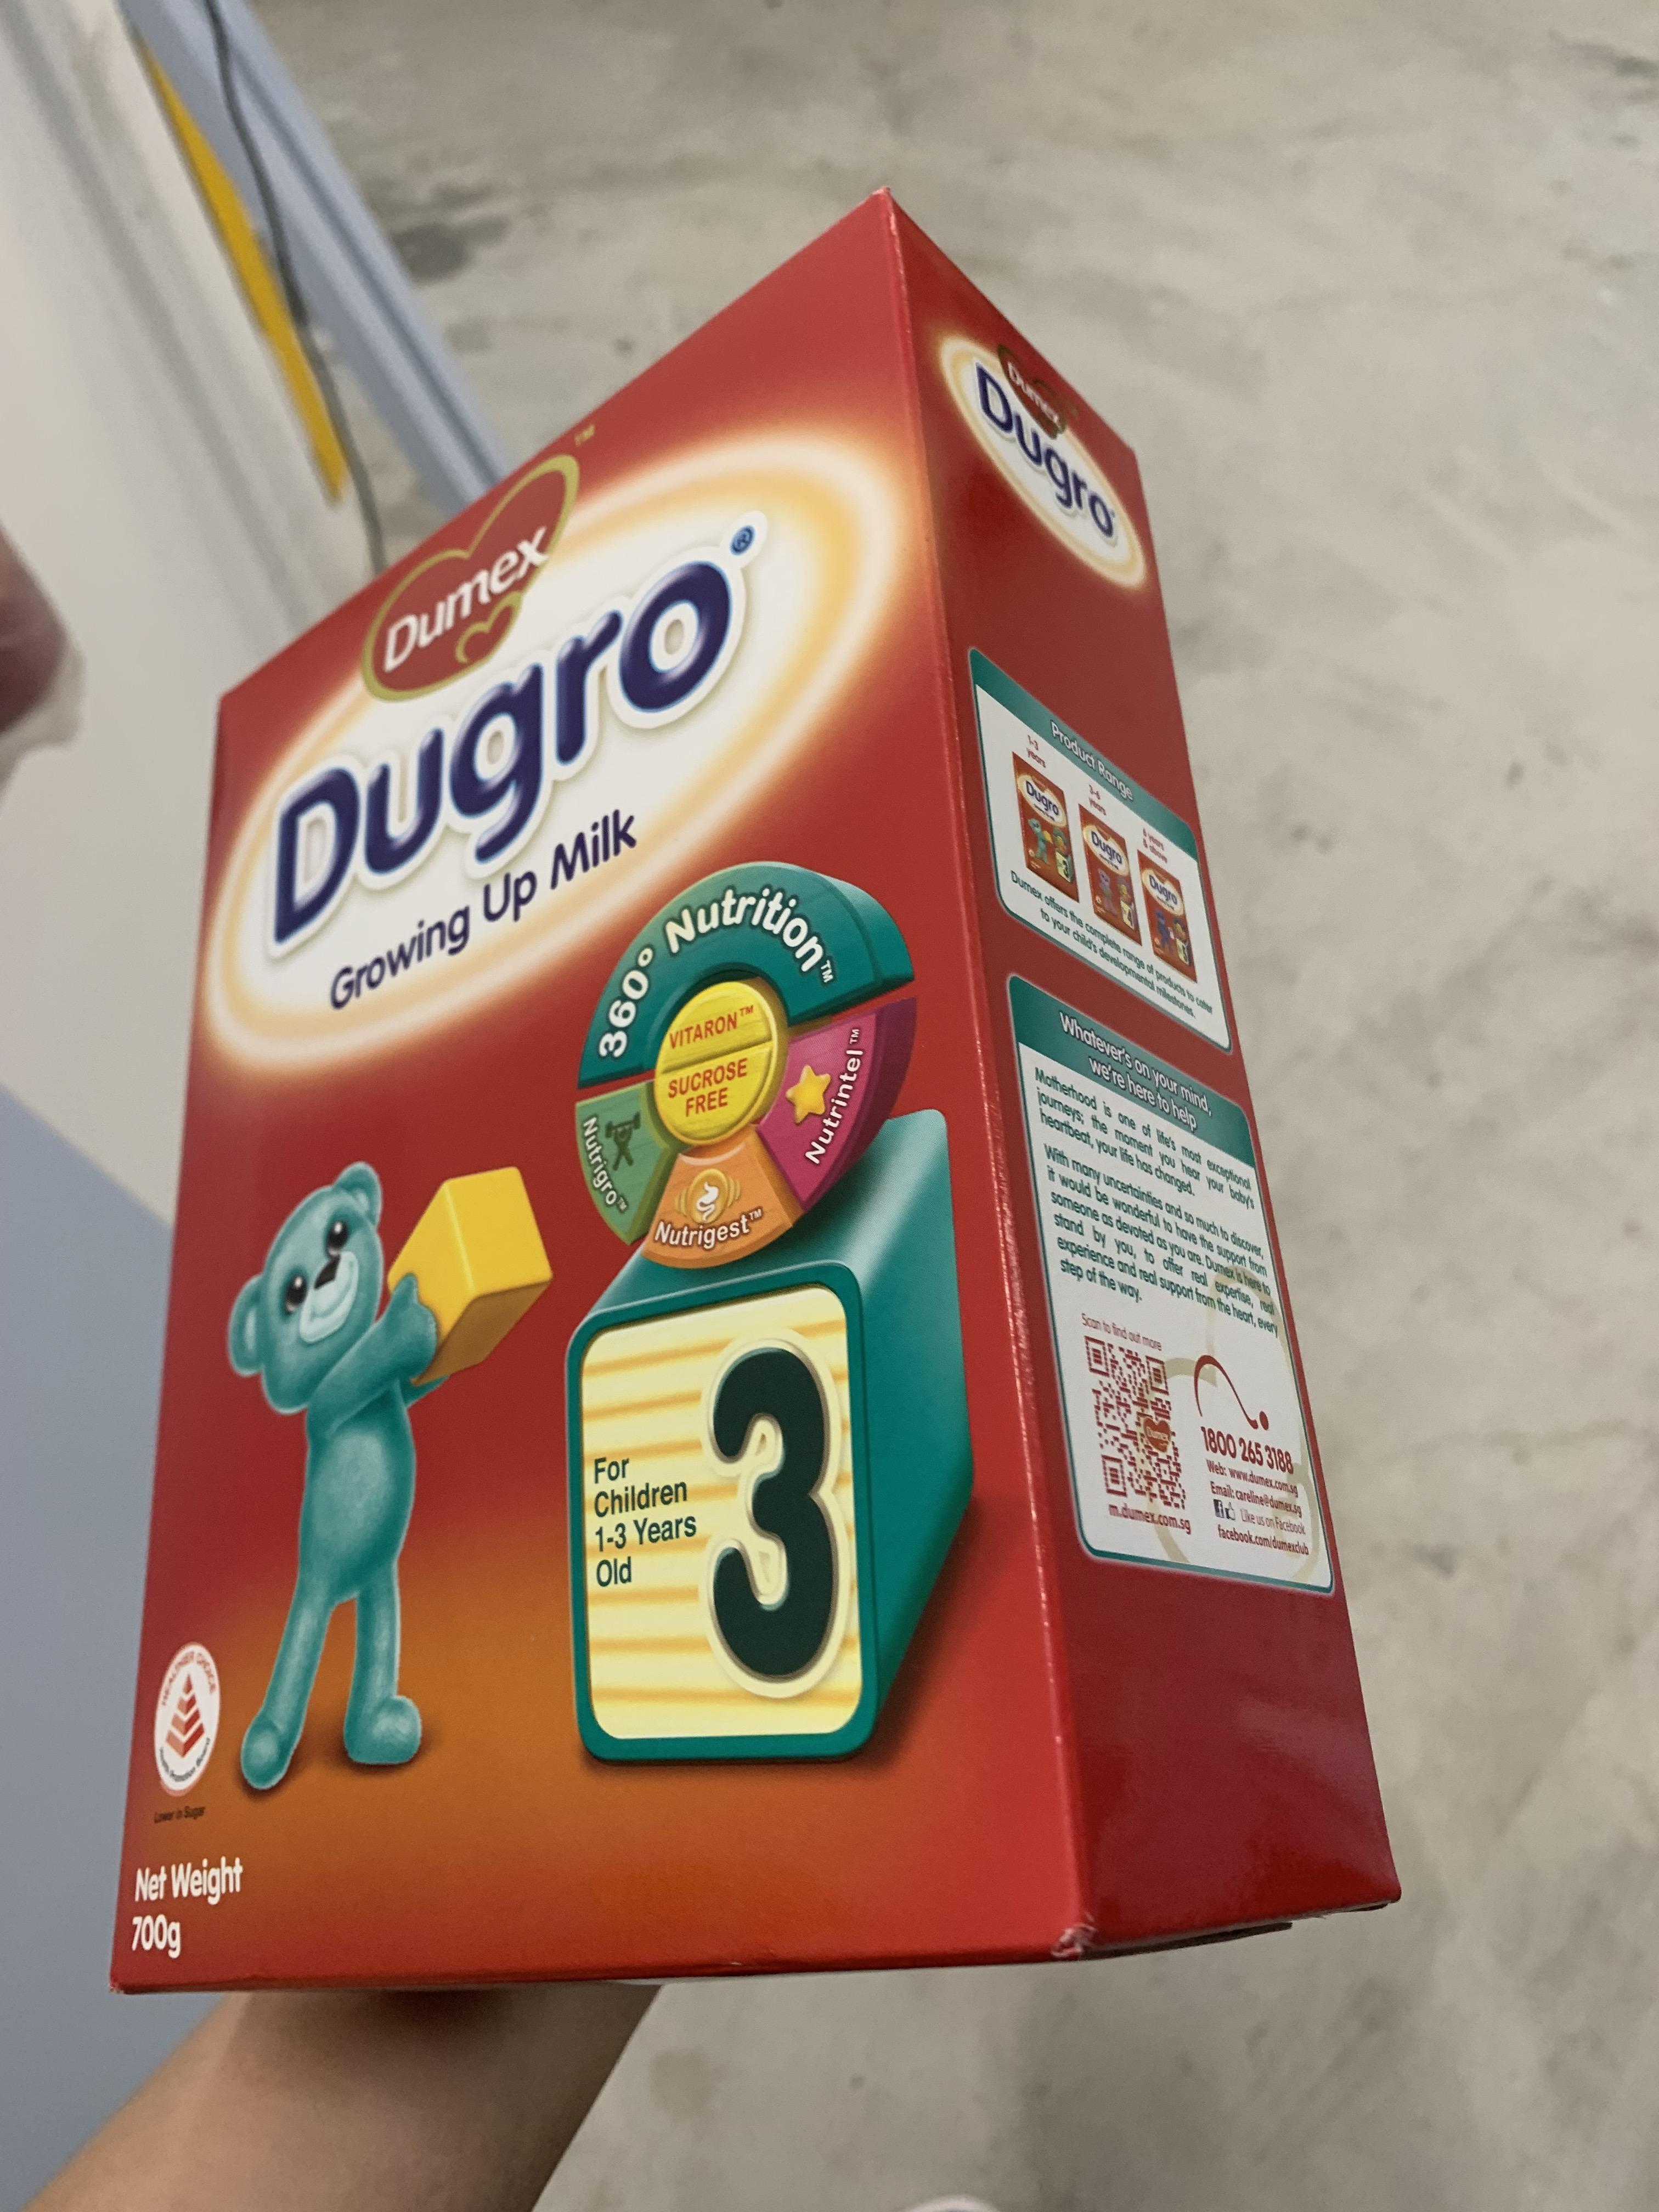object_name: (94, 486, 1310, 1949)
